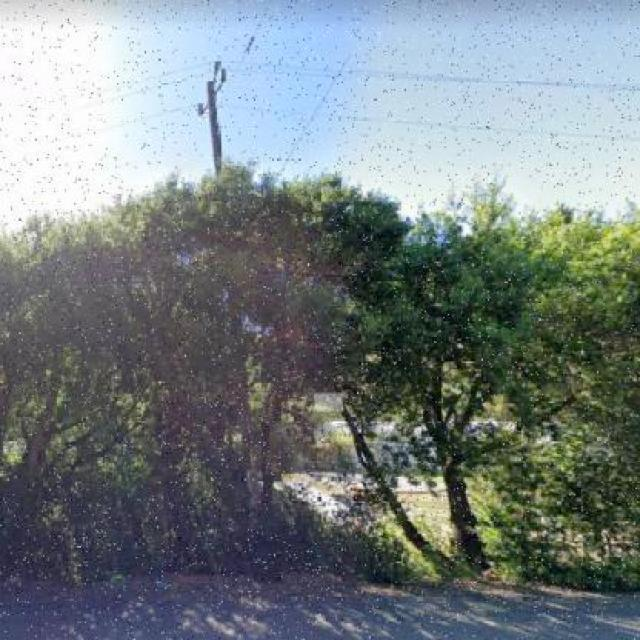crossarm: (196, 59, 228, 119)
pole: (206, 79, 257, 487)
